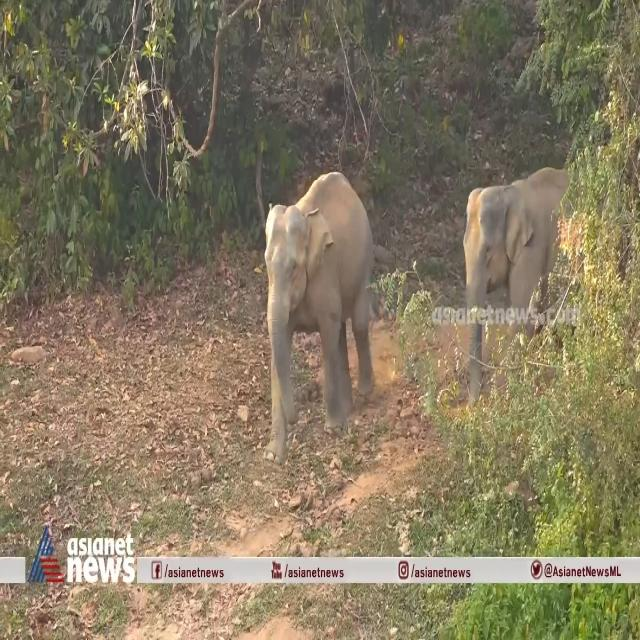ELEPHANT: (264, 170, 384, 458)
